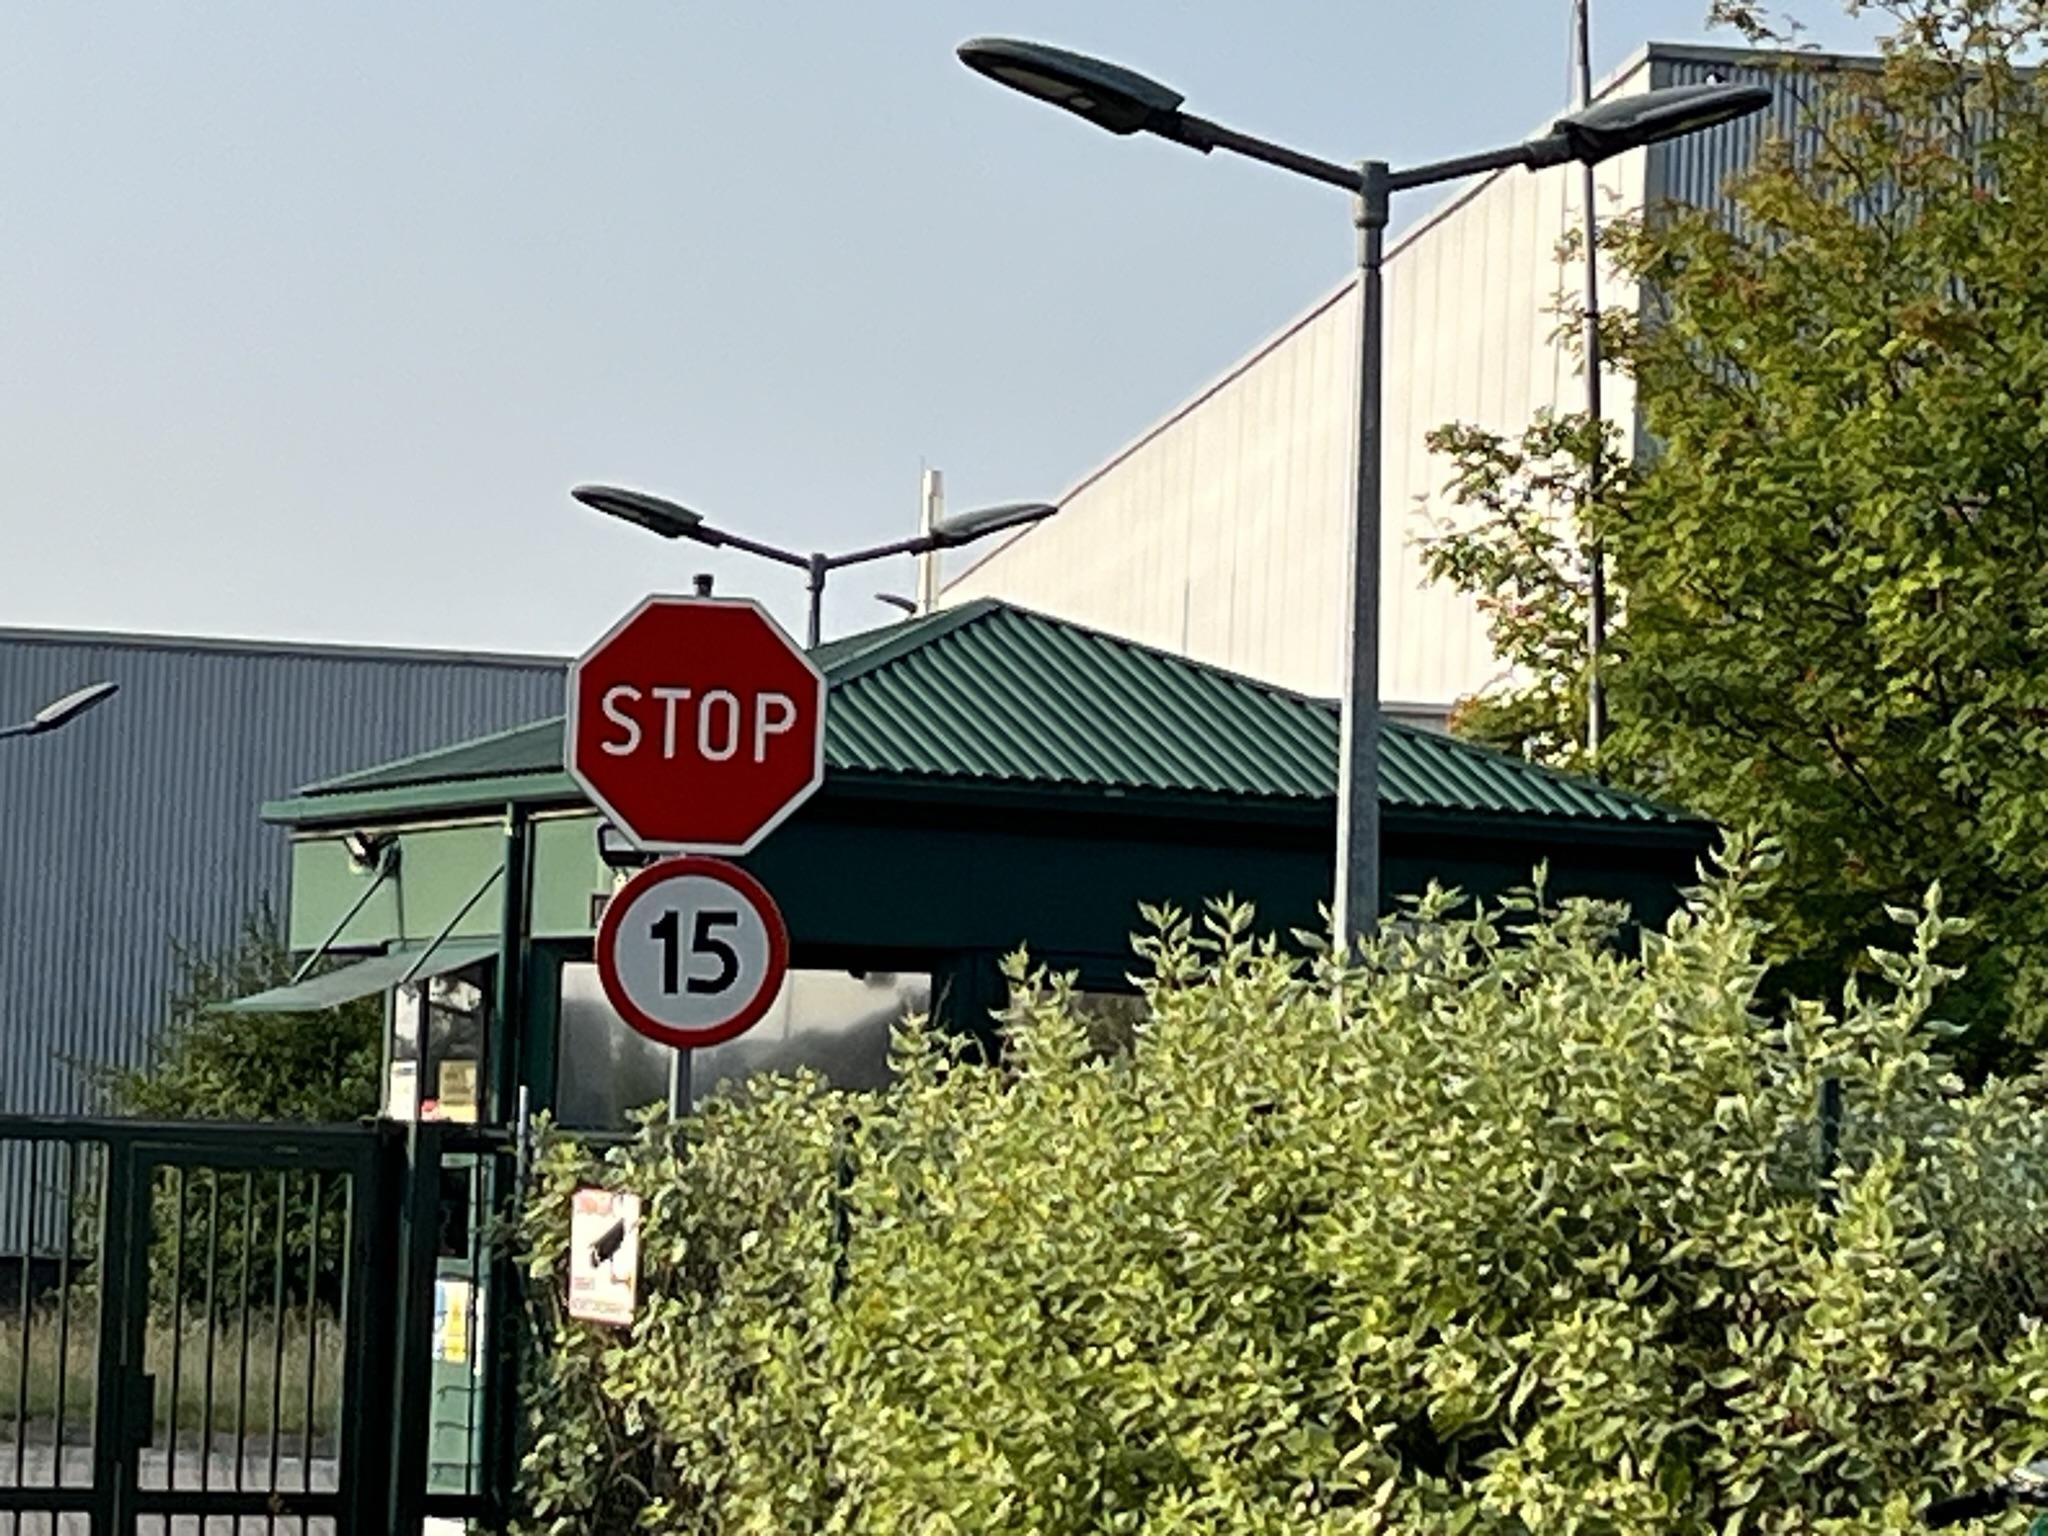prohibitory: (566, 592, 827, 857), (597, 855, 792, 1050)
